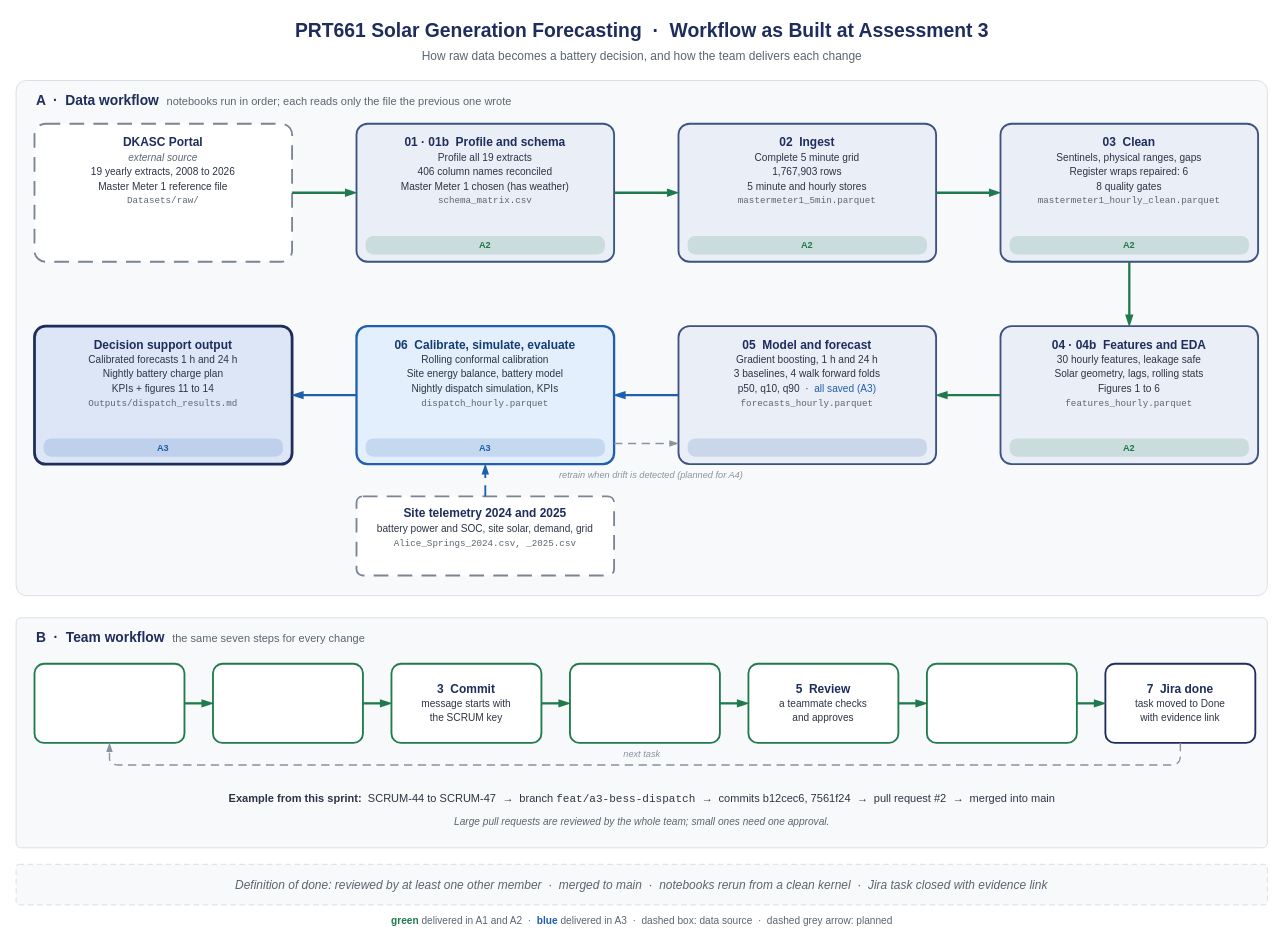
The diagram is 1283 pixels wide and 944 high, and some of its shapes have lost their labels. Each missing label, with the box of its shape:
1 Jira task sprint backlog, owner and SCRUM key: (33, 662, 185, 743)
2 Branch from latest main feat/…, docs/…: (212, 662, 363, 743)
4 Pull request push branch, request reviewers: (569, 662, 720, 743)
6 Merge into main, branch closed: (926, 662, 1077, 743)
A2 + A3: (687, 438, 926, 456)
